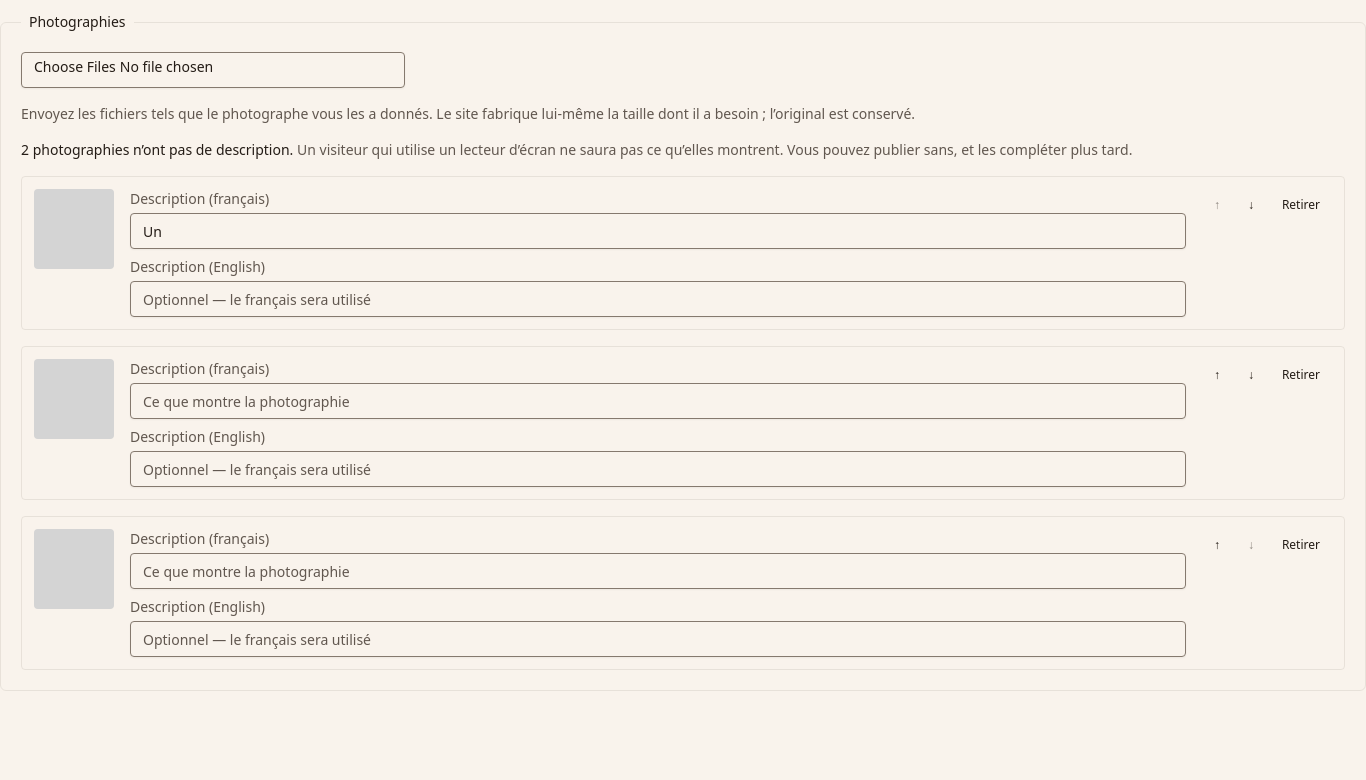
Test case: PhotographManager › reports a refusal instead of failing silently
Click the button named "Descendre la photographie 1": [1251, 205] box [1236,189,1266,221]
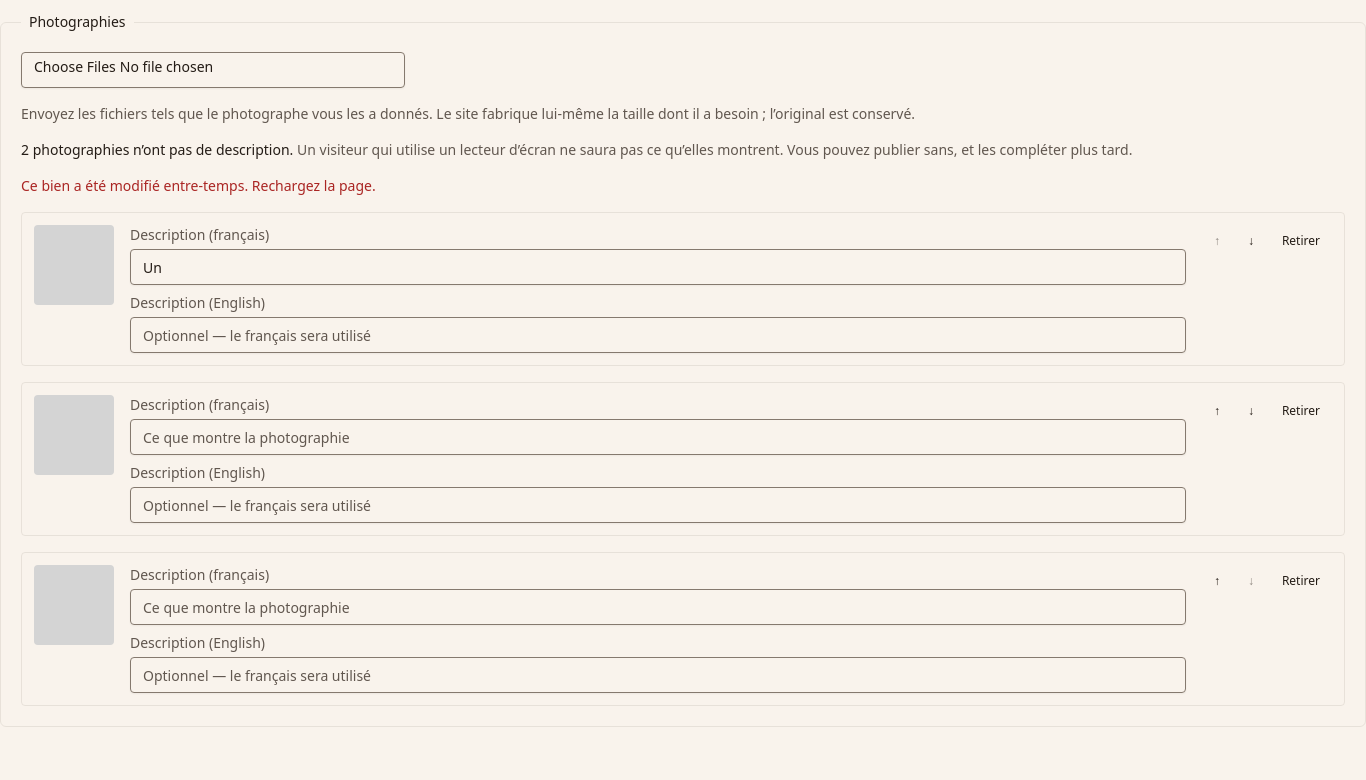
Now the message shows "modifié entre-temps", box [21,176,376,195]
